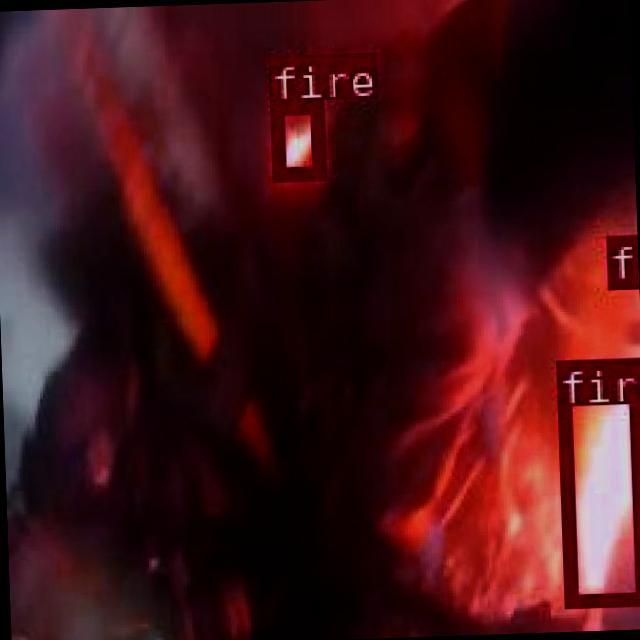fire: (553, 355, 640, 603), (268, 98, 321, 176), (602, 233, 634, 284)
